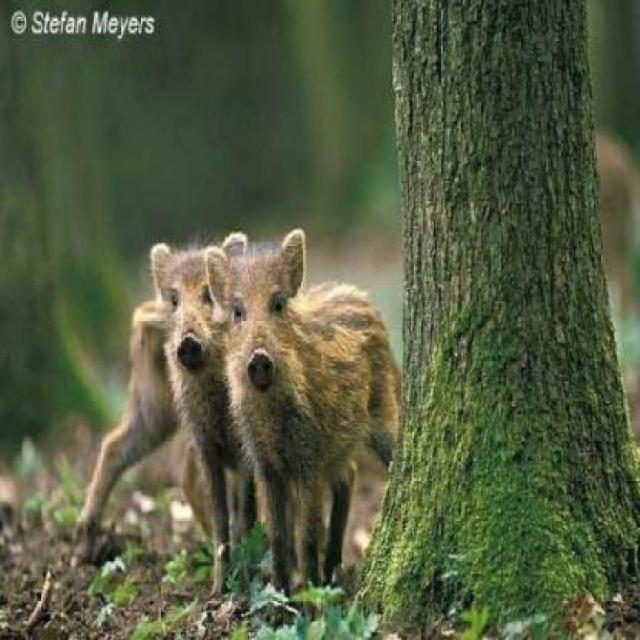Boar: (211, 195, 440, 596), (135, 182, 243, 528)
